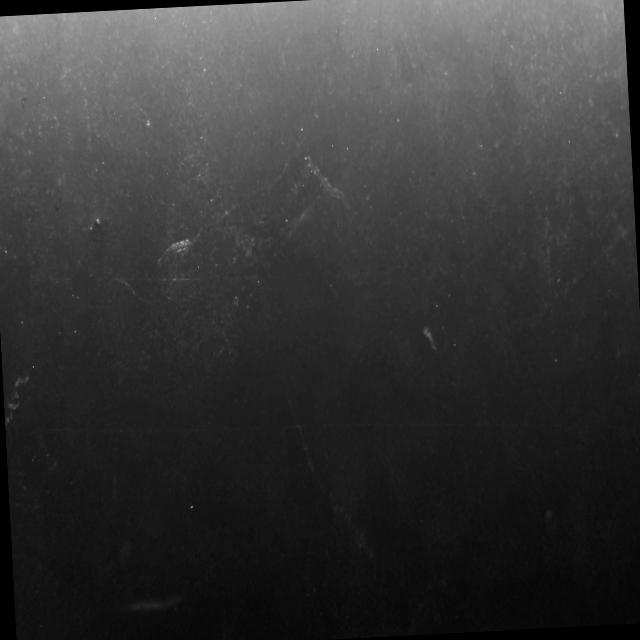beta: (283, 382, 382, 567), (532, 205, 640, 318), (281, 542, 394, 640), (200, 143, 302, 228), (396, 566, 482, 636), (106, 270, 156, 312), (300, 535, 319, 640), (2, 372, 32, 432)
